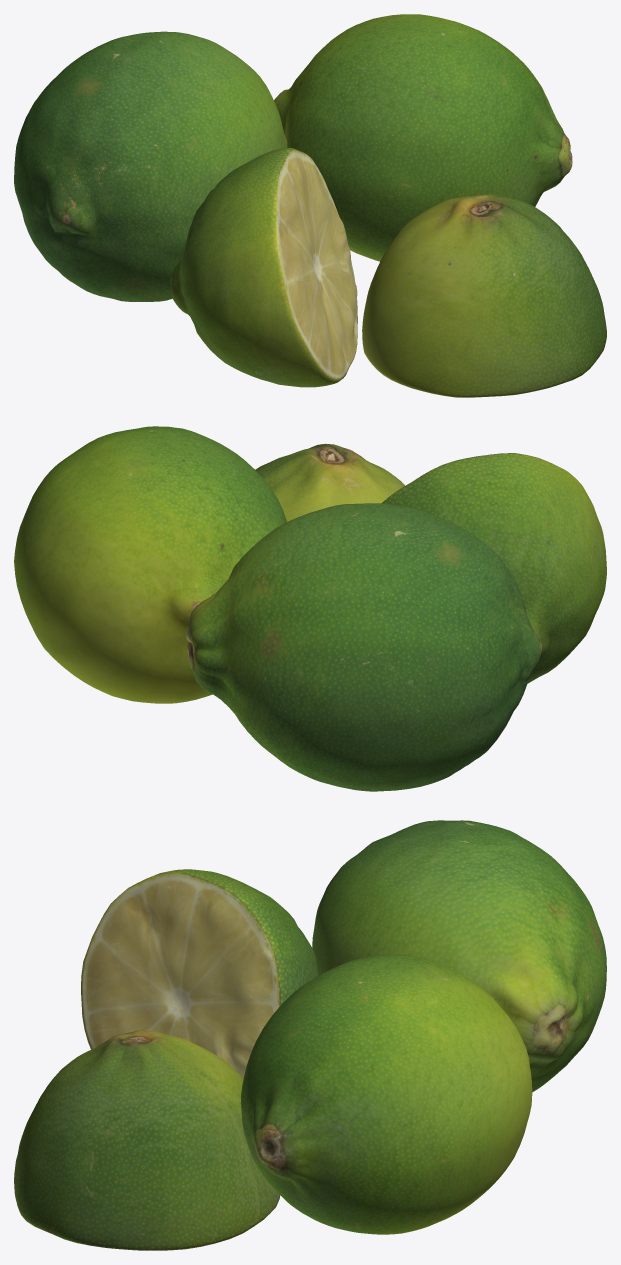
File: lime.glb
The picture shows the model from 3 angles, top to bottom: view 1: azimuth 30°, elevation 25°; view 2: azimuth 150°, elevation 25°; view 3: azimuth 270°, elevation 25°; orthographic projection. The views are drawn at different scales.
Visible parts, largest first — view 1: Object_2, Object_3, Object_5, Object_4; view 2: Object_2, Object_3, Object_4, Object_5; view 3: Object_3, Object_5, Object_2, Object_4.
Boxes of the visible parts, x1=… form: Object_2: x1=14, y1=31, x2=287, y2=301; Object_3: x1=274, y1=14, x2=572, y2=261; Object_5: x1=362, y1=194, x2=606, y2=397; Object_4: x1=170, y1=148, x2=357, y2=387; Object_2: x1=186, y1=503, x2=541, y2=791; Object_3: x1=14, y1=426, x2=286, y2=703; Object_4: x1=382, y1=453, x2=606, y2=683; Object_5: x1=255, y1=443, x2=404, y2=521; Object_3: x1=240, y1=954, x2=532, y2=1234; Object_5: x1=14, y1=1030, x2=280, y2=1250; Object_2: x1=312, y1=820, x2=606, y2=1092; Object_4: x1=81, y1=869, x2=318, y2=1079.
Size of the model in its own units: 2.95 by 1.46 by 2.93.
4 materials, 4 textured.
